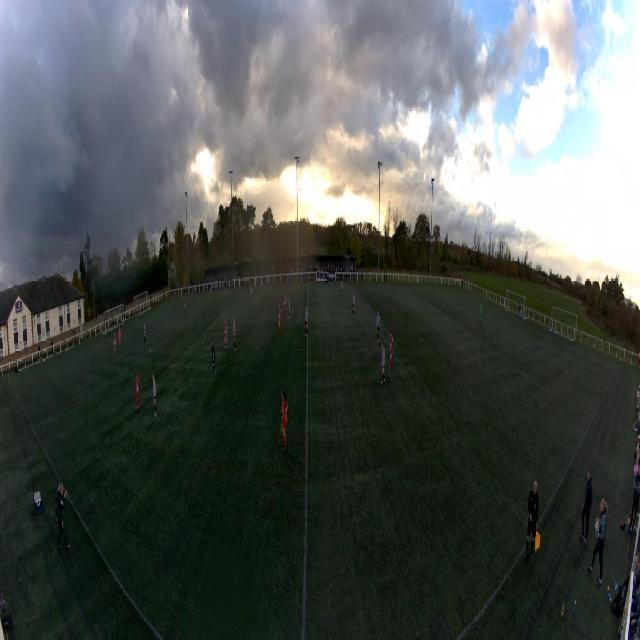ball: (149, 349, 151, 355)
player: (281, 390, 288, 448), (135, 371, 142, 409), (209, 338, 216, 376), (380, 343, 385, 384), (152, 375, 157, 414), (389, 332, 393, 370), (376, 312, 381, 342), (304, 307, 309, 336), (351, 292, 356, 318), (223, 318, 227, 350), (287, 294, 291, 320), (113, 333, 117, 358), (233, 319, 236, 351), (278, 304, 281, 335), (283, 294, 287, 316), (339, 282, 343, 299), (480, 303, 483, 324), (143, 323, 146, 344), (119, 327, 122, 345), (308, 274, 311, 290), (254, 277, 257, 292), (250, 286, 252, 304), (184, 298, 186, 315)
